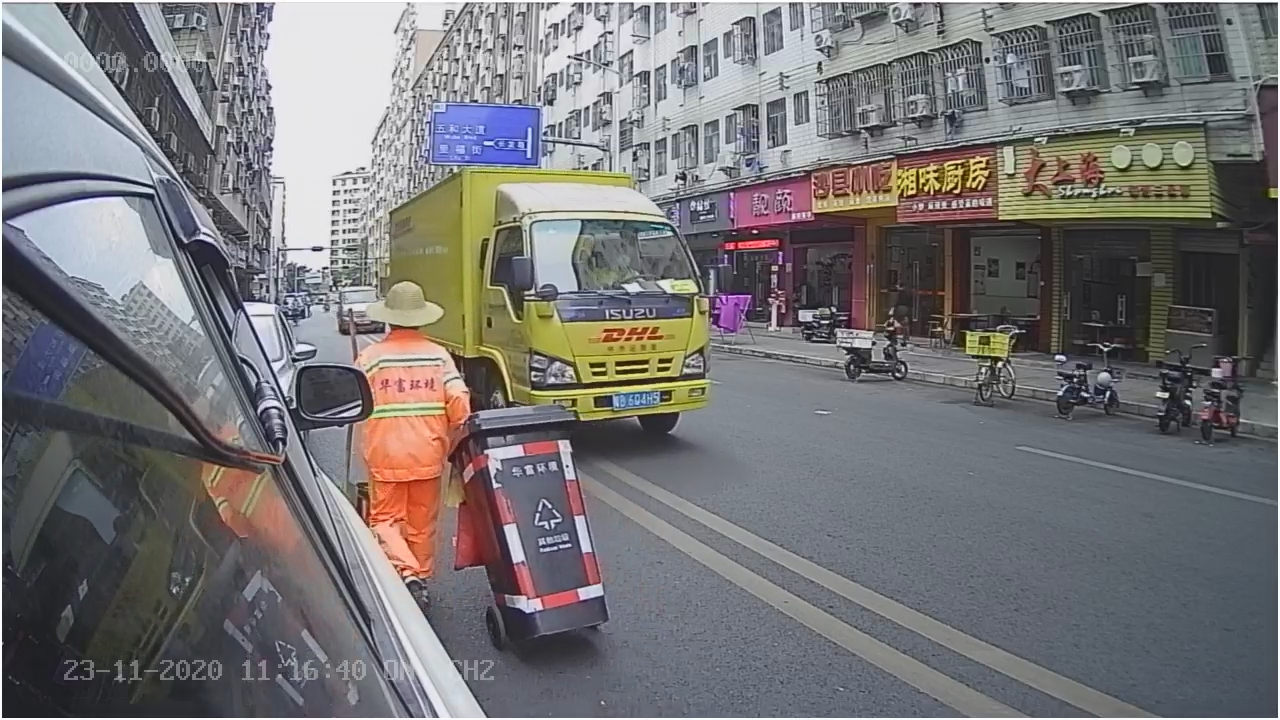person: (354, 275, 473, 412)
